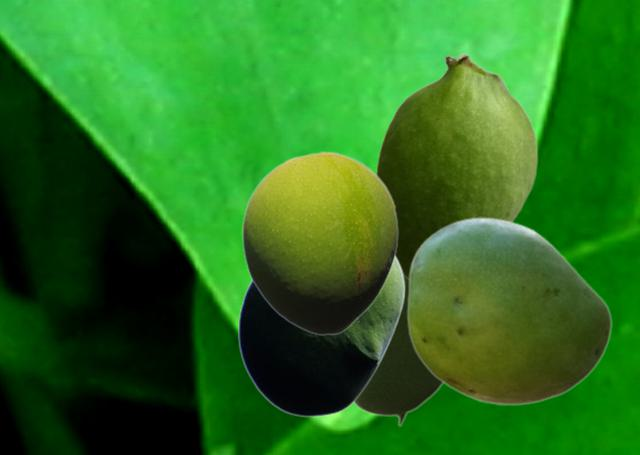green_mango: (406, 216, 611, 405), (375, 52, 537, 280), (241, 151, 398, 335), (237, 254, 405, 416), (353, 279, 443, 426)
